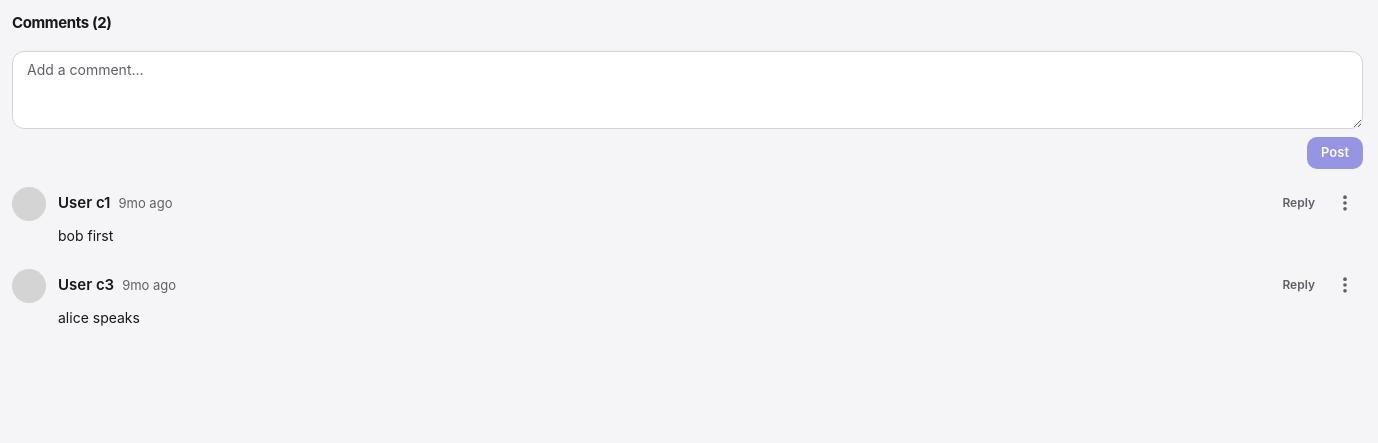
Test: CommentsSection block removes the author's comments at once › matches what Mute already does, so the two controls read alike
Click the button named "Comment actions" in the row of "User c1" at (1345, 202), box left=1327, top=184, right=1363, bottom=220
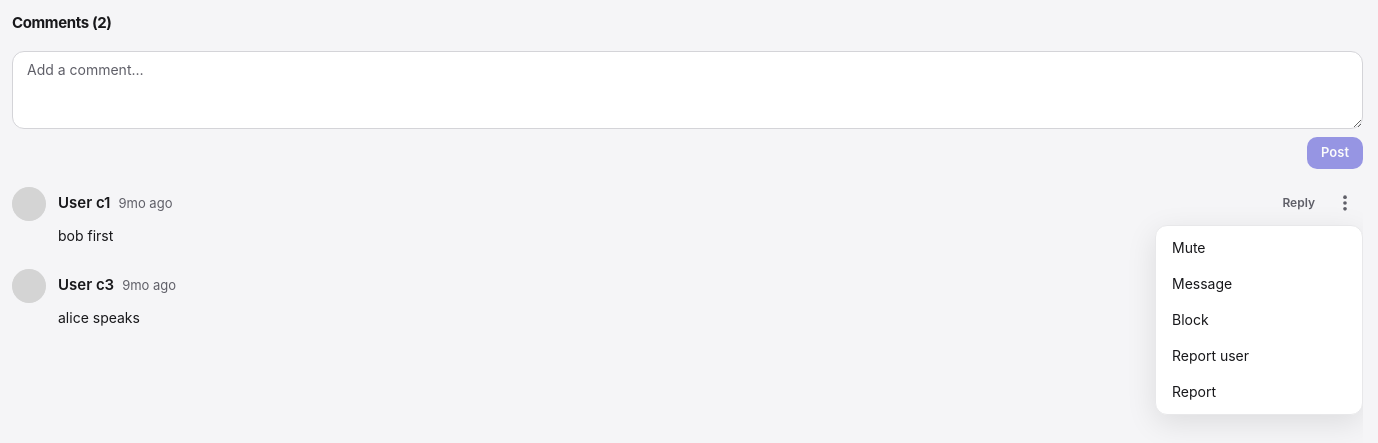
Click the menu item "Mute" at (1259, 248), box left=1160, top=230, right=1358, bottom=266
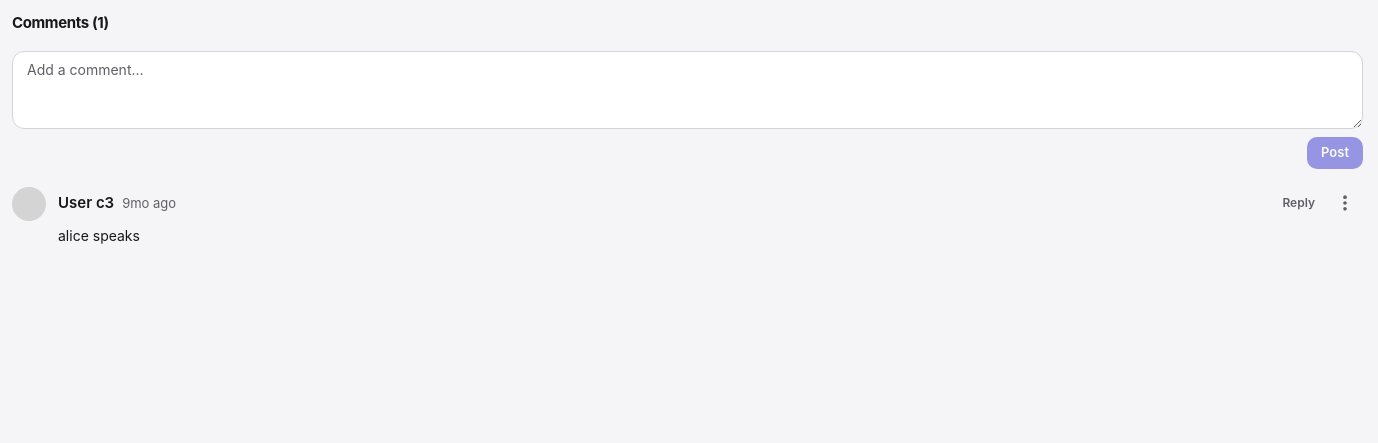
expect the text "alice speaks" is shown: met, box left=58, top=226, right=140, bottom=244
expect the text "bob first" is gone: met
